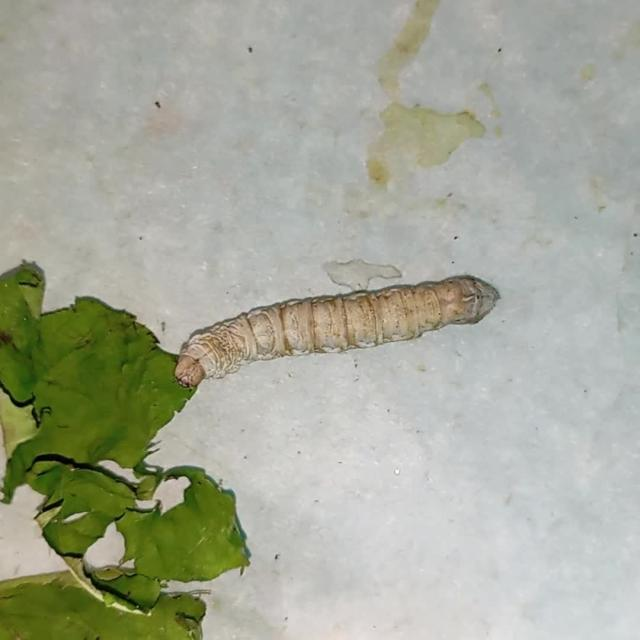Grasserie: (162, 266, 505, 394)
